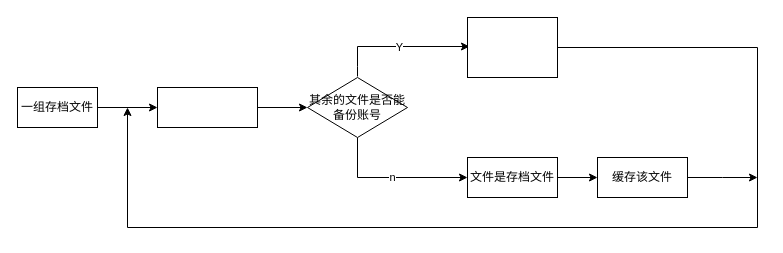
Image size: 783x253. Some labels were removed from this diagram. The box of each missing label's shape, as (x1, y1, x2, y2) in pixels:
依次从文件组中去除一个文件: (156, 86, 258, 128)
文件不是存档文件，从文件组中去除该文件: (466, 16, 558, 78)
